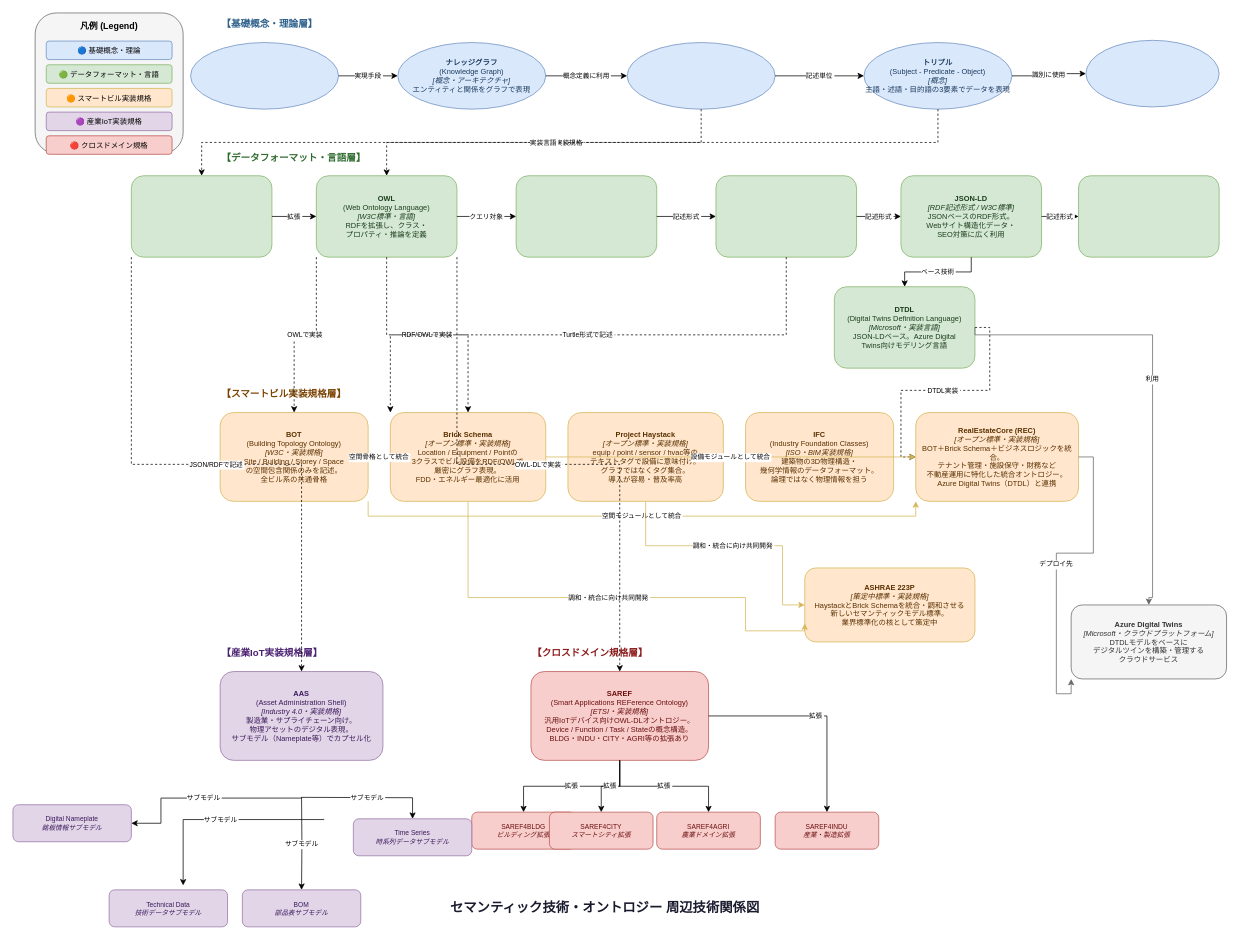
This 1240x940 diagram has some shape labels left out. The centre of each missing label's shape, as x and y in pixels:
"RDF (Resource Description Framework) [W3C標準・フォーマット] トリプルでグラフを記述する データモデルの基盤規格" belongs at pixel 201 216.
"RDF/XML [RDF記述形式] XMLベースの初期形式。 機械処理向き。 レガシー連携に使用" belongs at pixel 1148 216.
"SPARQL [W3C標準・クエリ言語] RDFグラフに対する 問い合わせ言語 (SQLのRDF版)" belongs at pixel 586 216.
"Turtle (.ttl) [RDF記述形式] 人間が読みやすい テキスト形式でRDFを記述。 設計・学習に最適" belongs at pixel 786 216.
"URI / IRI [識別子・概念] グローバルに一意なリソース識別子" belongs at pixel 1152 73.
"オントロジー (Ontology) [概念・理論] 概念の体系と関係性を形式的に定義する枠組み" belongs at pixel 700 75.
"セマンティックウェブ (Semantic Web) [W3C 概念] Web上のデータに「意味」を付与する思想" belongs at pixel 264 75.
